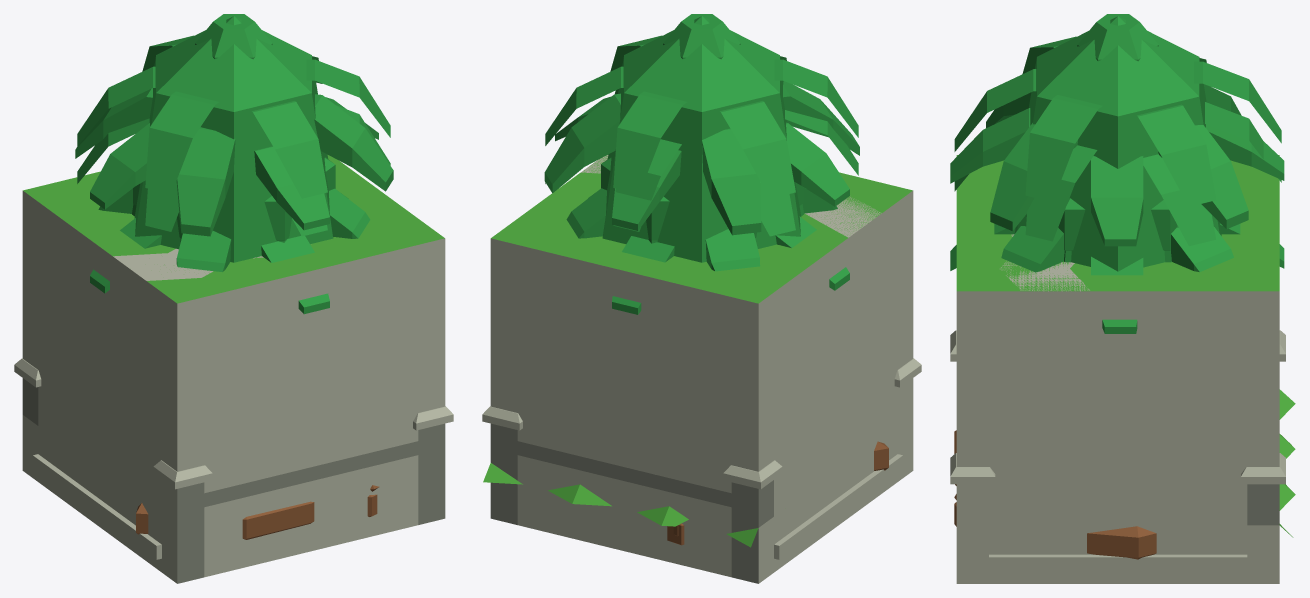
File: jungle.glb
3 views of the same model, side by side, from view 1: azimuth 30°, elevation 25°; view 2: azimuth 150°, elevation 25°; view 3: azimuth 270°, elevation 25° (orthographic). The views are drawn at different scales.
Visible parts, largest first — view 1: cliff_large_stone, cliff_steps_stone, cliff_block_stone, leafs (×4), tree_default, bridge_stone, tree_palm, cliff_half_stone, tree_palmBend, tree_palmTall, rock_largeC, tree_tall (+2 smaller); view 2: cliff_block_stone, cliff_steps_stone, tree_default, leafs (×4), bridge_stone, tree_palm, cliff_large_stone, tree_palmBend, tree_palmTall, tree_tall, tree_plateau, tree_palmShort; view 3: cliff_steps_stone, cliff_block_stone, tree_default, leafs (×4), tree_palm, bridge_stone, tree_palmBend, tree_palmTall, cliff_large_stone, tree_tall, rock_largeC, tree_plateau (+1 smaller).
Boxes of the visible parts, x1,y1,x2,y2 form: cliff_large_stone: [113, 238, 445, 576]; cliff_steps_stone: [22, 215, 444, 583]; cliff_block_stone: [22, 155, 413, 436]; leafs (×4): [75, 88, 393, 314]; tree_default: [134, 16, 333, 262]; bridge_stone: [14, 358, 453, 583]; tree_palm: [77, 35, 390, 198]; cliff_half_stone: [177, 392, 437, 576]; tree_palmBend: [77, 105, 390, 236]; tree_palmTall: [102, 97, 345, 209]; rock_largeC: [136, 501, 314, 539]; tree_tall: [195, 14, 272, 59]; cliff_block_stone: [490, 155, 881, 577]; cliff_steps_stone: [483, 172, 913, 583]; tree_default: [602, 16, 801, 262]; leafs (×4): [544, 81, 859, 314]; bridge_stone: [482, 358, 921, 583]; tree_palm: [545, 35, 858, 198]; cliff_large_stone: [581, 155, 882, 349]; tree_palmBend: [545, 89, 858, 236]; tree_palmTall: [555, 96, 835, 230]; tree_tall: [663, 14, 740, 59]; tree_plateau: [601, 157, 803, 240]; tree_palmShort: [612, 216, 849, 314]; cliff_steps_stone: [956, 155, 1295, 583]; cliff_block_stone: [999, 155, 1279, 525]; tree_default: [1014, 16, 1221, 271]; leafs (×4): [950, 84, 1284, 333]; tree_palm: [954, 36, 1281, 206]; bridge_stone: [950, 330, 1285, 571]; tree_palmBend: [954, 102, 1281, 246]; tree_palmTall: [950, 108, 1264, 244]; cliff_large_stone: [1000, 234, 1091, 407]; tree_tall: [1077, 14, 1158, 61]; rock_largeC: [954, 430, 1156, 559]; tree_plateau: [1058, 198, 1176, 250].
Bounding box in the file's own units: 1.06 × 1.71 × 1.07.
